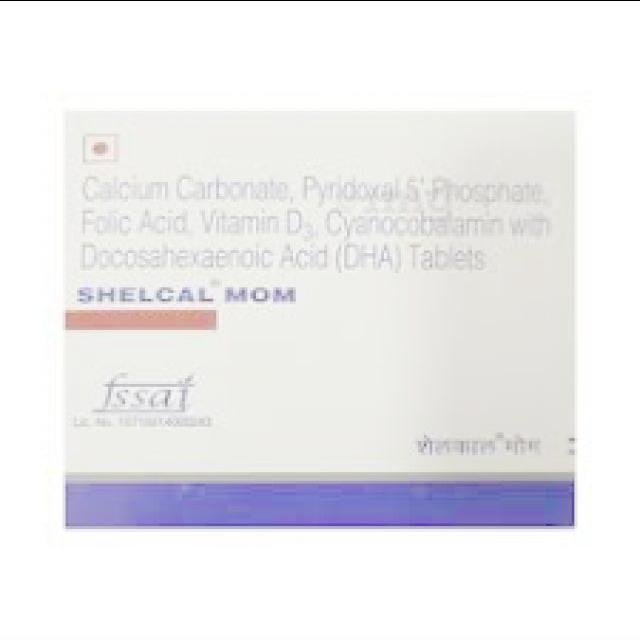authentic: (56, 102, 590, 545)
